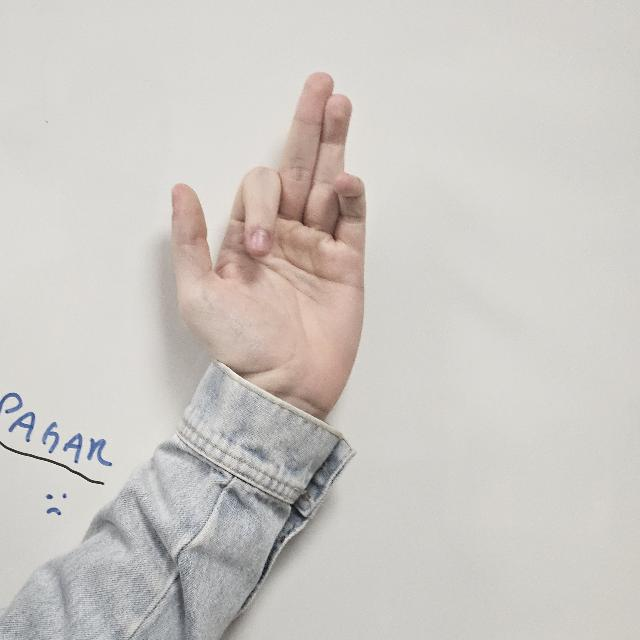R: (166, 69, 368, 414)
